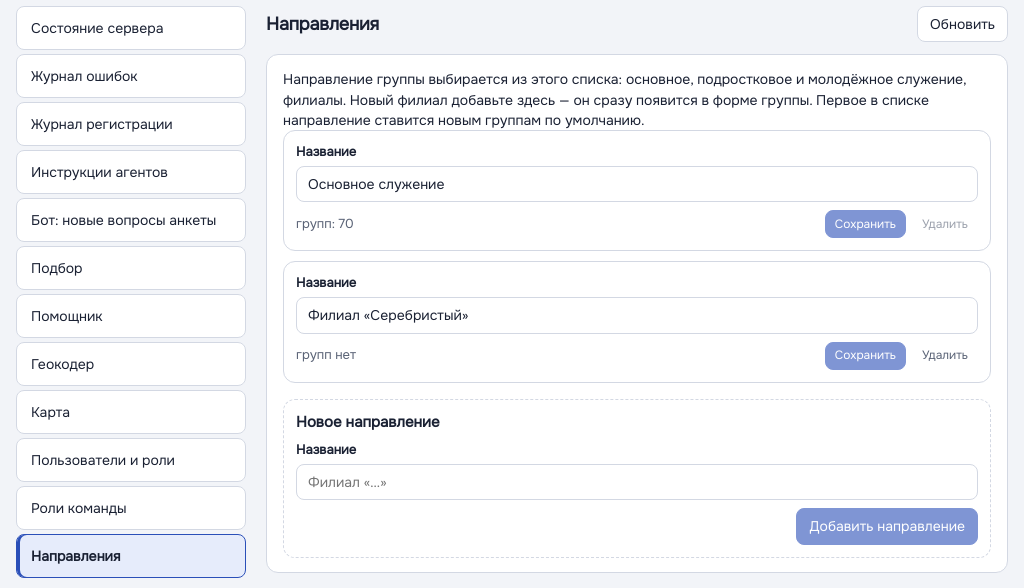
Scenario: «Настройки → Направления» › переименование шлёт номер и новое название; отказ сервера — его словами
Replace the text in the 2nd field labelled "Название" with "Основное служение" at (637, 315), box [296, 297, 978, 334]
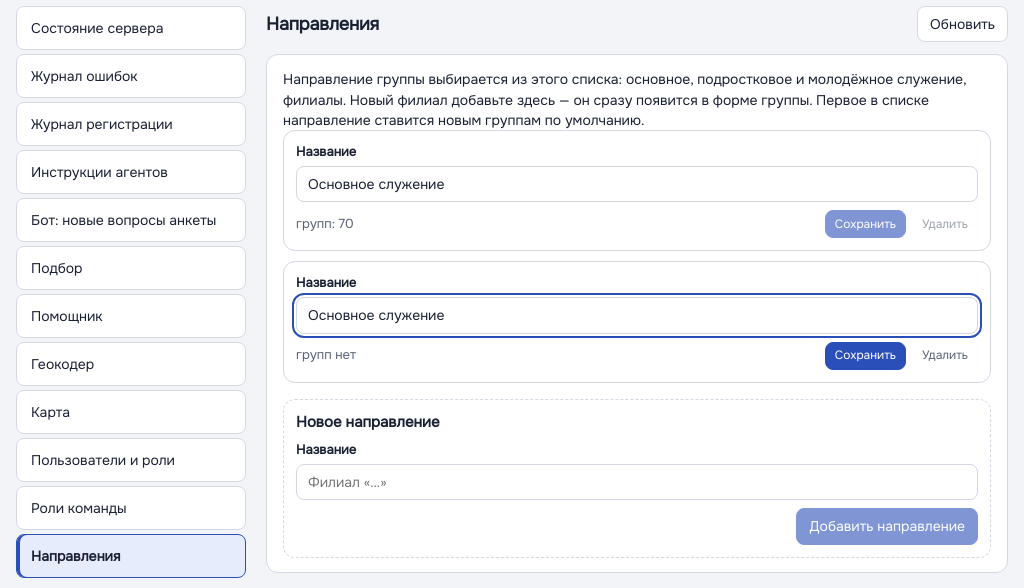
Click the button with aria-label "Сохранить направление «Филиал «Серебристый»»" at (865, 356), box [825, 342, 906, 370]
(page scrolled)
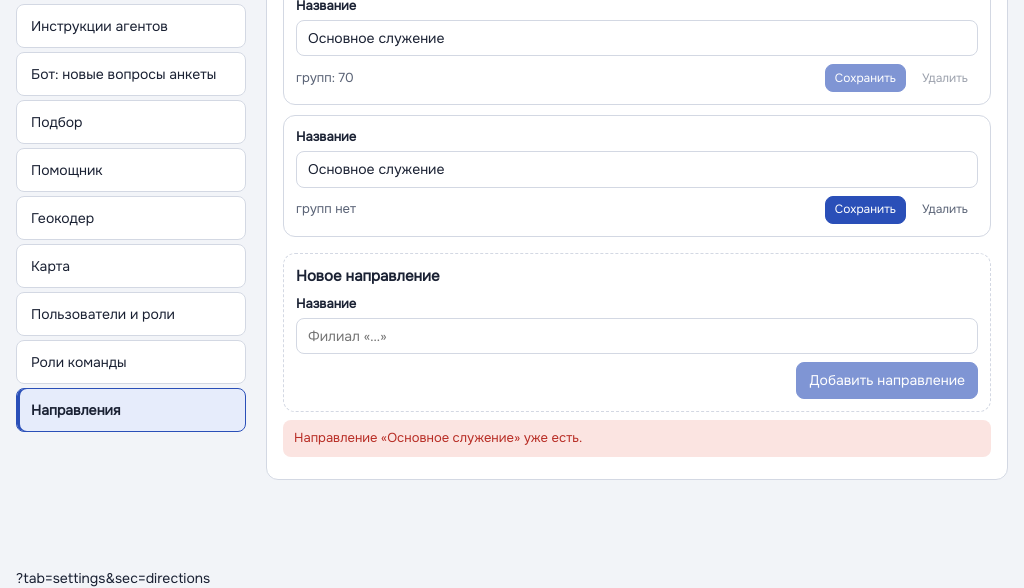
Result: the text "Направление «Основное служение» уже есть." is shown at [283, 420, 991, 457]
